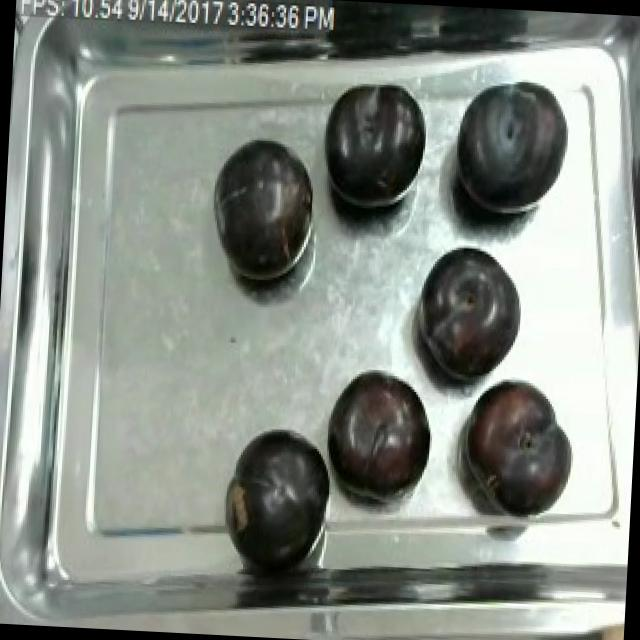Fruit: (441, 66, 577, 233), (454, 367, 584, 527), (407, 236, 532, 396), (204, 130, 324, 292), (314, 74, 438, 224), (318, 360, 442, 508), (221, 422, 340, 572)
